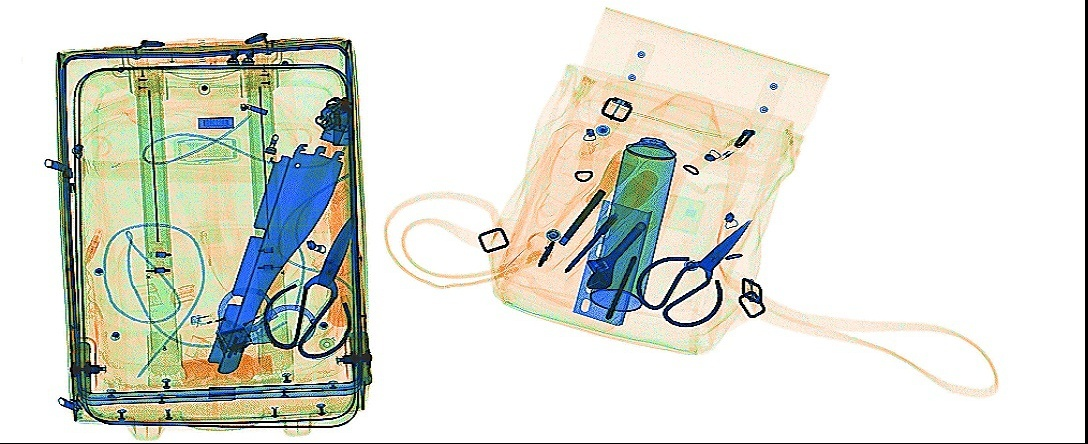handcuffs: (215, 285, 314, 349)
lighter: (184, 301, 246, 327), (235, 307, 279, 339)
pressure: (582, 131, 675, 312)
scissors: (260, 211, 356, 361), (633, 217, 750, 327)
